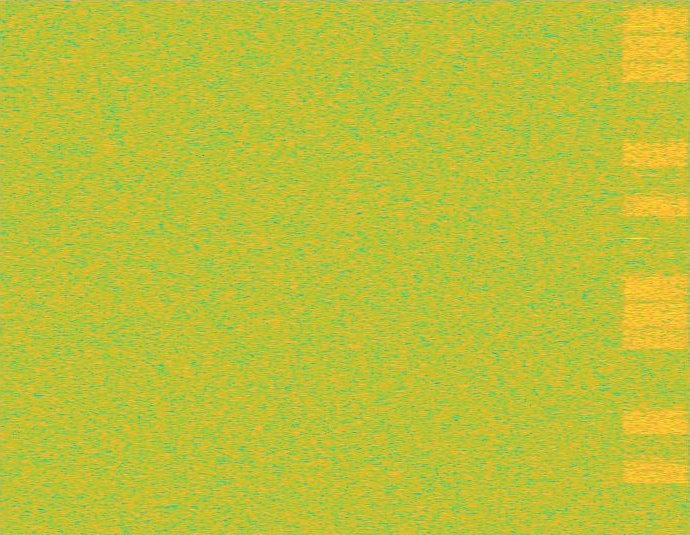LTE: (621, 0, 689, 534)
Radar: (630, 0, 644, 534)
